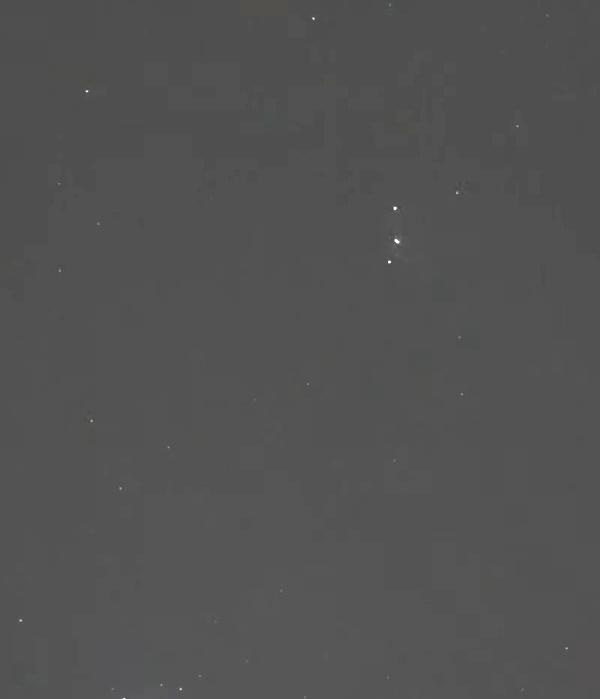Plane: (372, 202, 416, 265)
